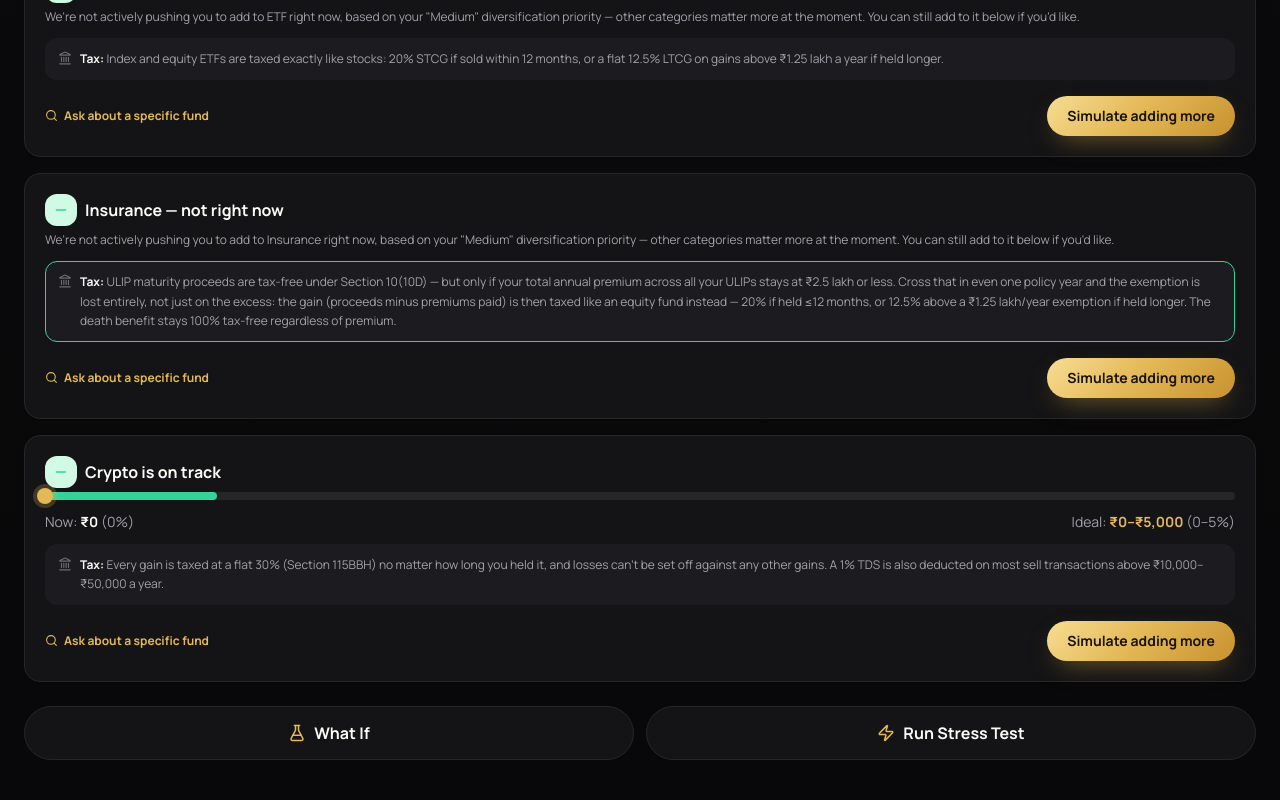
Test case: Suggestions — What If / Run Stress Test button split › falls back to the local apparent/real diversification calc when no canonical scoreBreakdown is available yet, and never lets the score move backwards when closi
This screenshot has width=1280, height=800.
(page scrolled)
Click the button with test id "what-if-btn": {"x": 329, "y": 732} [24, 706, 634, 760]
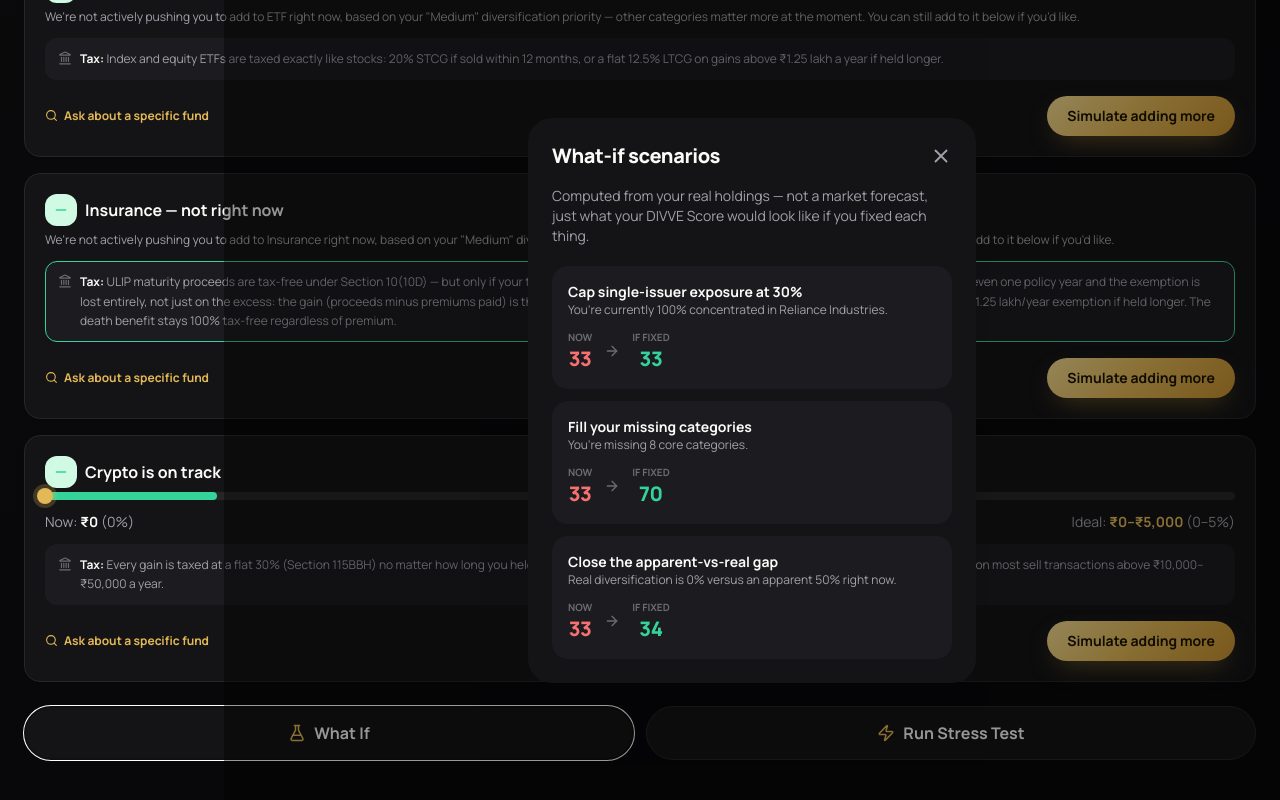
Expected: the element with test id "what-if-close-lookthrough-gap" shows "Real diversification is 0% versus an apparent 50% right now.", [568, 570, 896, 588]
